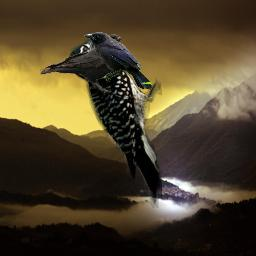Crow: (40, 34, 121, 93), (84, 32, 152, 90)
Woodpecker: (66, 31, 162, 208)
